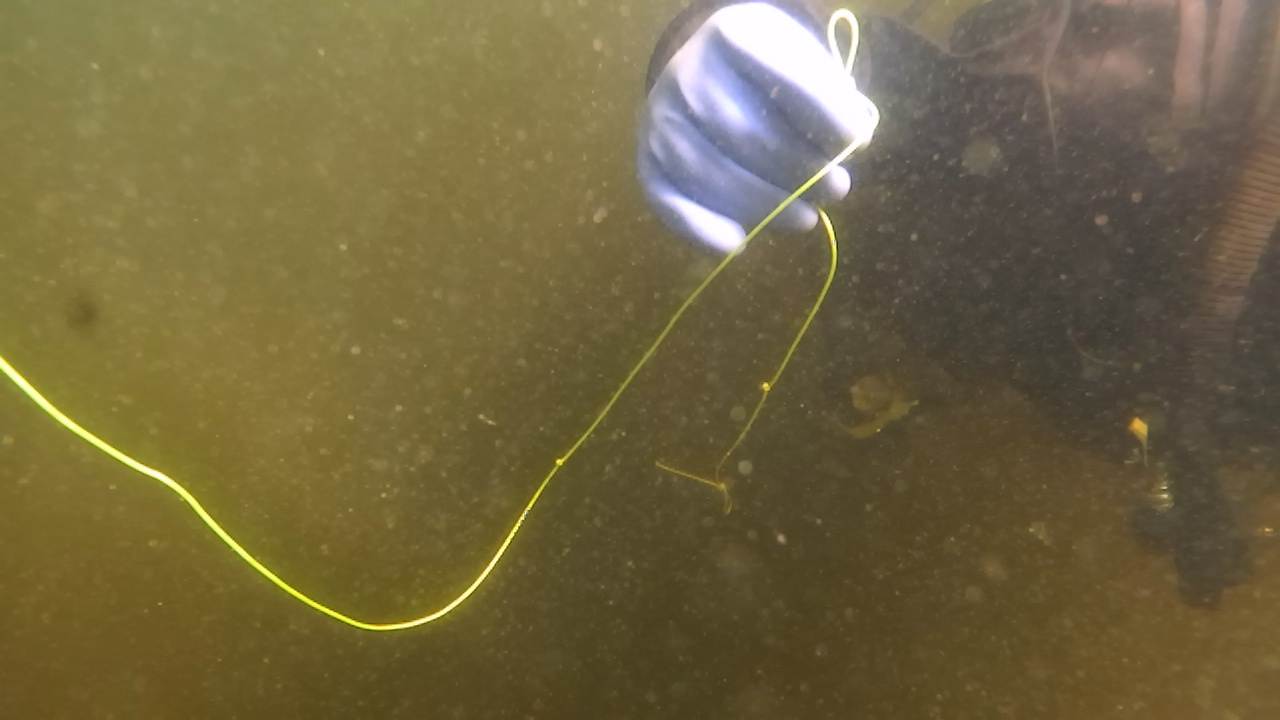Hand: (624, 10, 884, 268)
